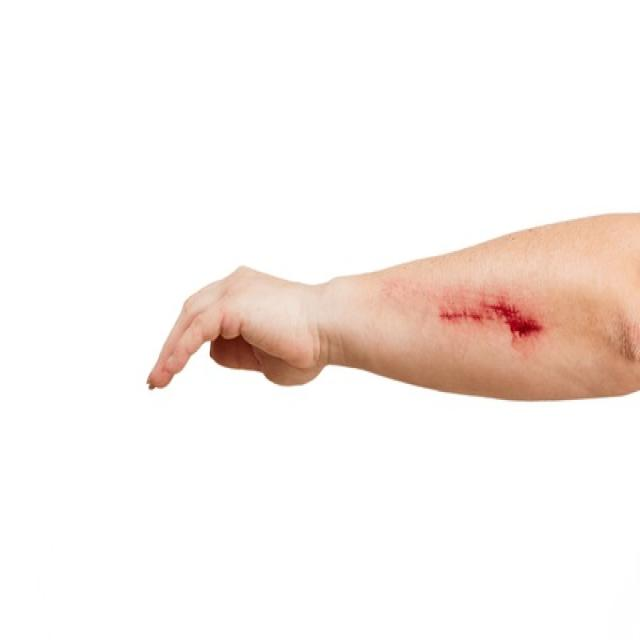Cut: (434, 286, 545, 348)
